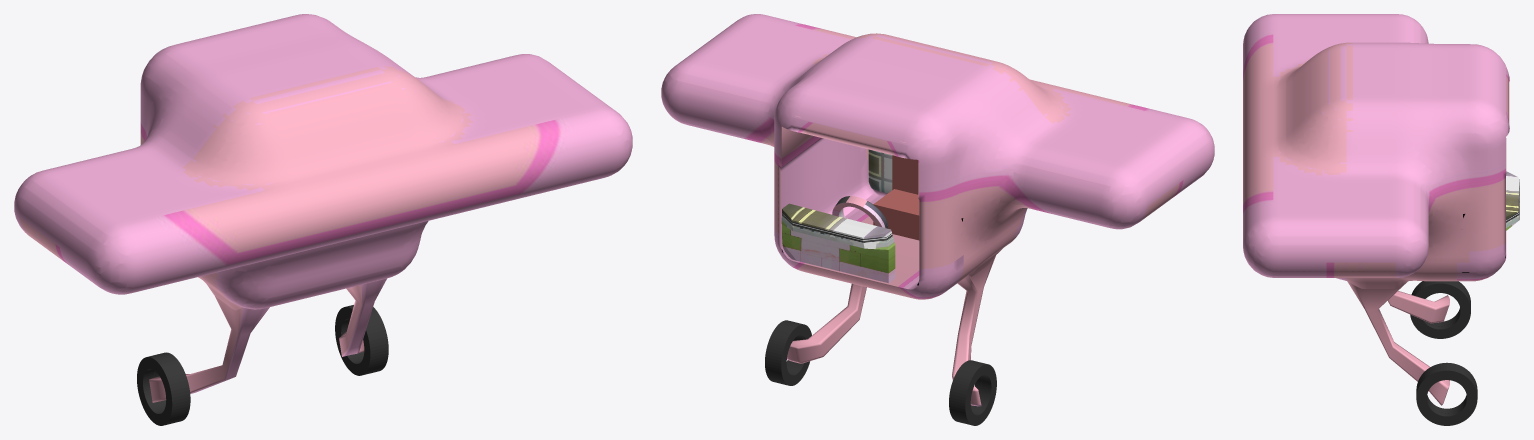
Rendered from car.glb.
3 views of the same model, side by side, from view 1: azimuth 30°, elevation 25°; view 2: azimuth 150°, elevation 25°; view 3: azimuth 270°, elevation 25° (orthographic). The views are drawn at different scales.
Parts seen in each view (by area): view 1: vehicle_body, wheel_left, wheel_right; view 2: vehicle_body, dashboard, seat, wheel_left, wheel_right, steering_wheel; view 3: vehicle_body, wheel_right, wheel_left, dashboard.
Part boxes in pixels (left/top/right/bottom): vehicle_body: left=14, top=14, right=632, bottom=402; wheel_left: left=137, top=352, right=190, bottom=425; wheel_right: left=335, top=305, right=388, bottom=375; vehicle_body: left=661, top=14, right=1214, bottom=406; dashboard: left=781, top=203, right=895, bottom=283; seat: left=873, top=155, right=919, bottom=240; wheel_left: left=949, top=360, right=996, bottom=425; wheel_right: left=765, top=320, right=811, bottom=385; steering_wheel: left=832, top=196, right=888, bottom=228; vehicle_body: left=1243, top=14, right=1509, bottom=405; wheel_right: left=1416, top=362, right=1477, bottom=425; wheel_left: left=1410, top=281, right=1470, bottom=338; dashboard: left=1506, top=171, right=1519, bottom=230.
Size of the model in its own units: 8.8 by 5.52 by 4.52.
4 materials, 2 textured.
